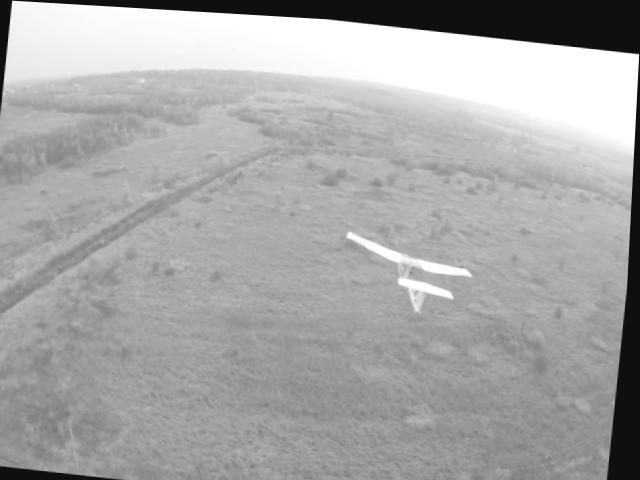hedef: (336, 218, 478, 317)
